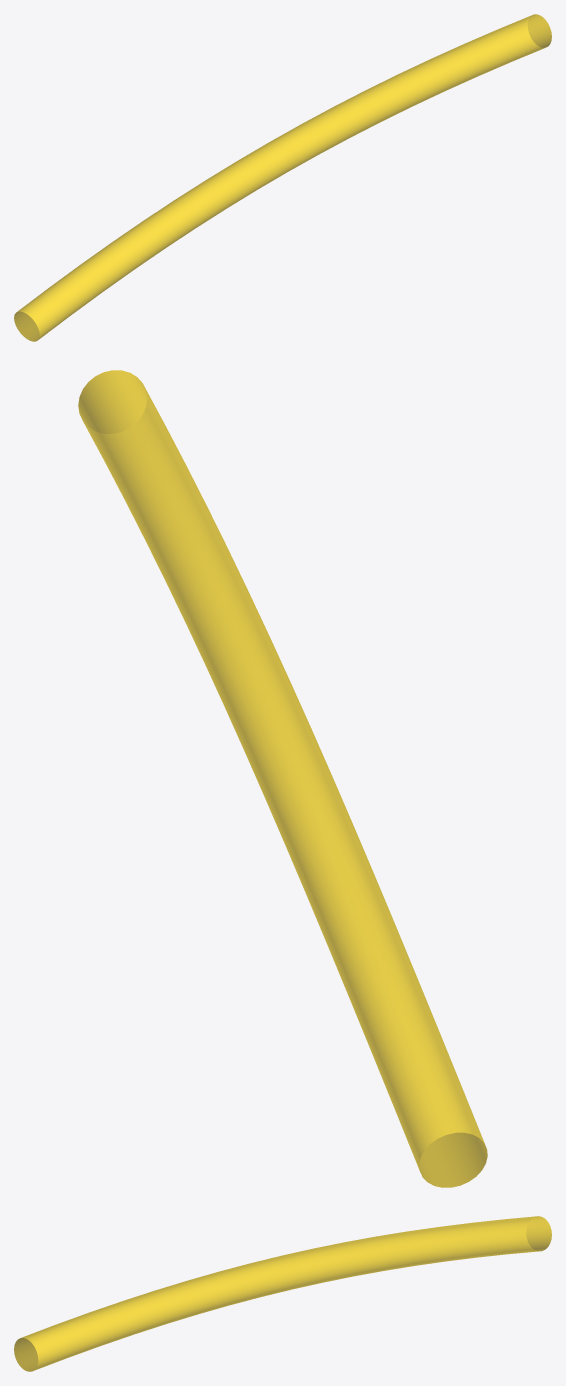
File: Event_402970704_track_6.fbx
3 renders of one model, top to bottom at view 1: azimuth 90°, elevation 25°; view 2: azimuth 150°, elevation 25°; view 3: azimuth 270°, elevation 25°, orthographic. The views are drawn at different scales.
Parts seen in each view (by area): view 1: Model; view 2: Model; view 3: Model.
Boxes of the visible parts, <box> form: Model: <box>14,14,551,341</box>; Model: <box>78,370,487,1187</box>; Model: <box>14,1216,551,1371</box>.
Size of the model in its own units: 0.5852 by 0.1479 by 0.607.
